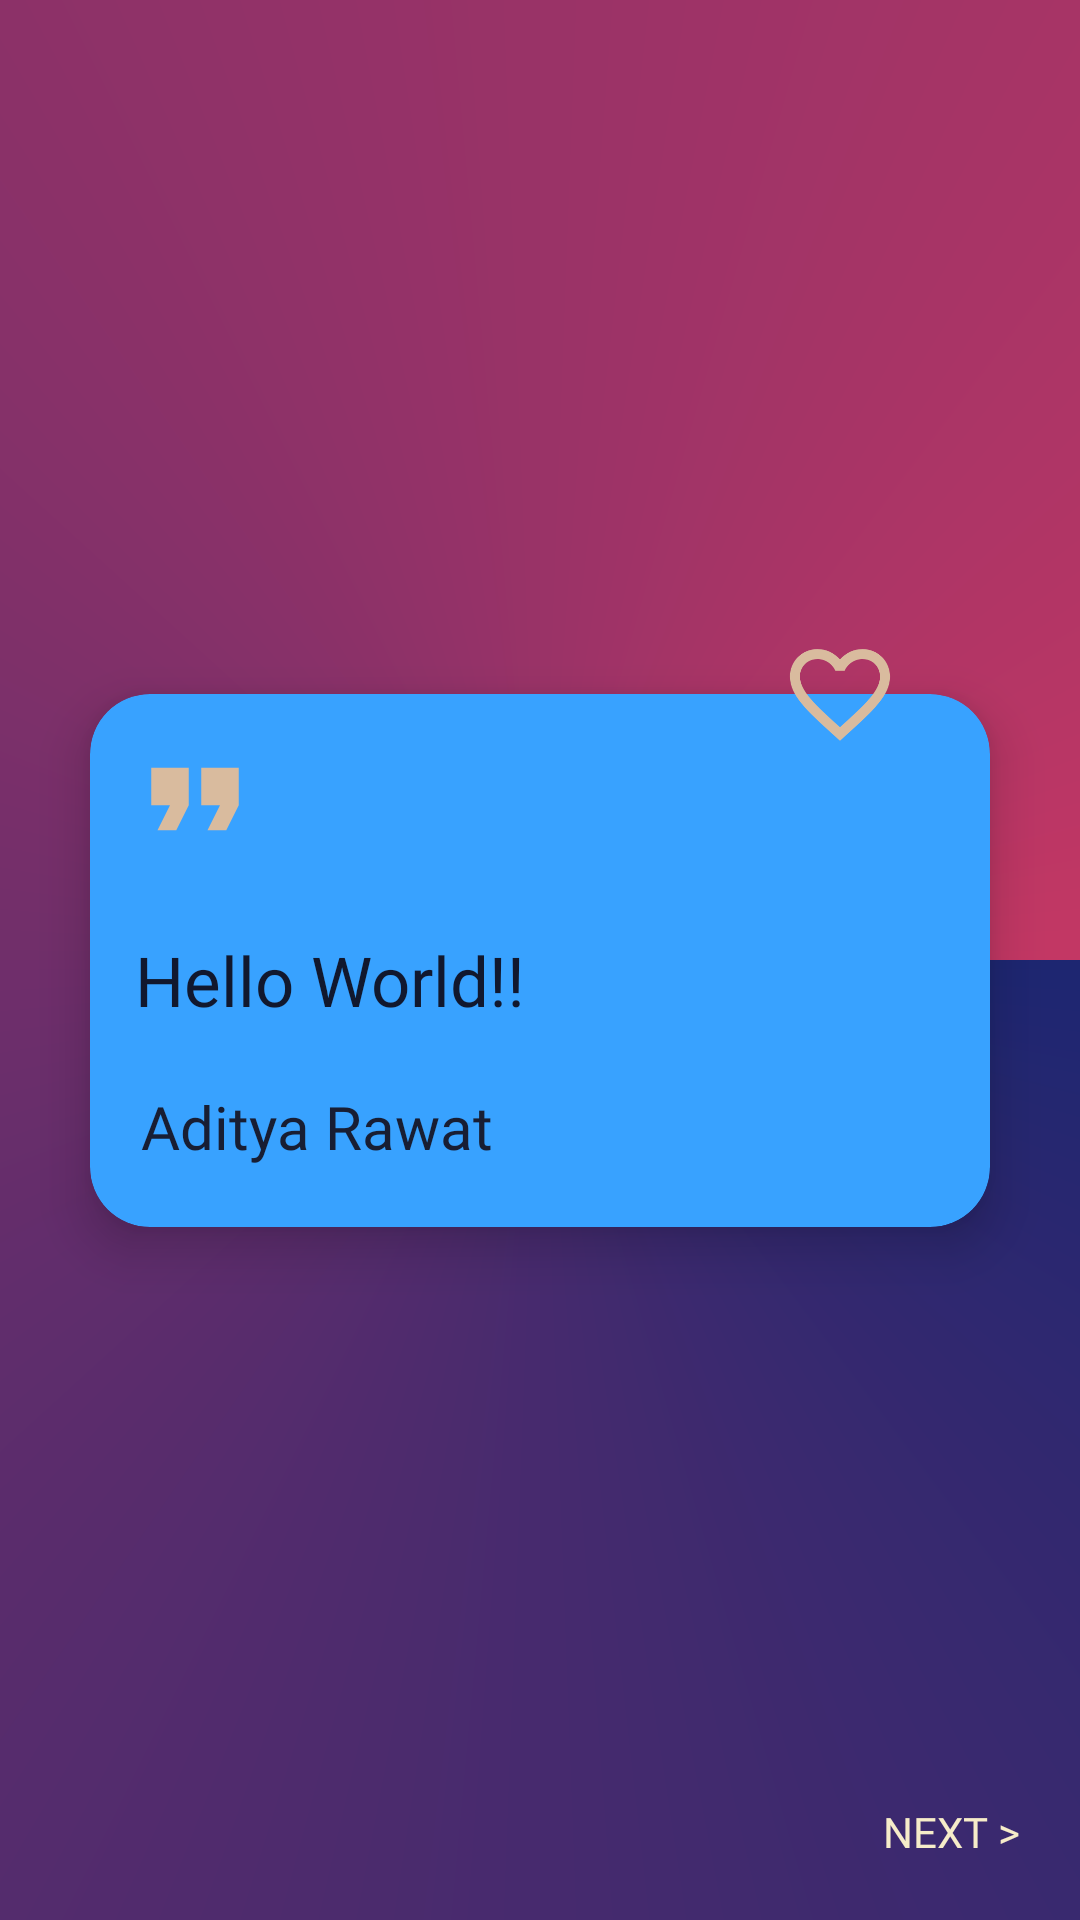

Point at icon controls on the screen. Image size 1080px×1920px, points as point (x, y).
favorite border: point (840, 694)
quote: point (195, 799)
